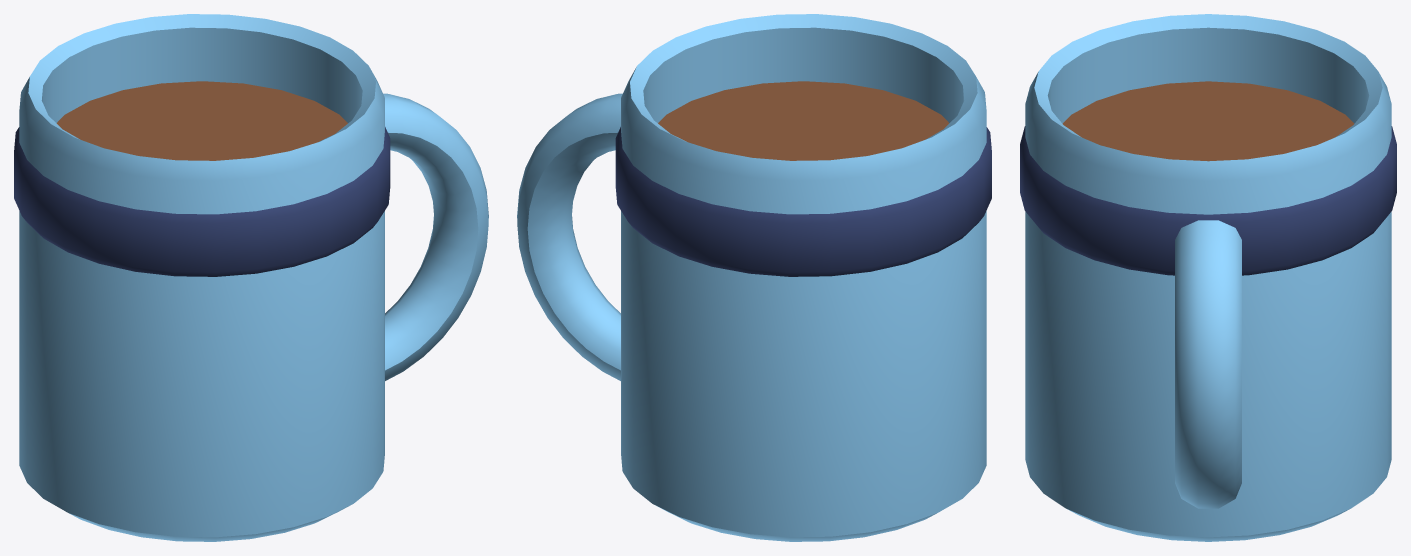
File: mug_b.glb
The picture shows the model from 3 angles, left to right: view 1: azimuth 30°, elevation 25°; view 2: azimuth 150°, elevation 25°; view 3: azimuth 270°, elevation 25°; orthographic projection.
Parts seen in each view (by area): view 1: ceramic, ceramic_band, coffee; view 2: ceramic, ceramic_band, coffee; view 3: ceramic, ceramic_band, coffee.
Boxes of the visible parts, bbox=[...] form: ceramic: bbox=[19, 14, 488, 541]; ceramic_band: bbox=[14, 127, 390, 276]; coffee: bbox=[56, 81, 347, 160]; ceramic: bbox=[517, 14, 986, 541]; ceramic_band: bbox=[615, 127, 991, 276]; coffee: bbox=[658, 81, 949, 160]; ceramic: bbox=[1025, 14, 1391, 541]; ceramic_band: bbox=[1020, 126, 1396, 275]; coffee: bbox=[1062, 81, 1354, 161].
Bounding box in the file's own units: 0.1149 × 0.095 × 0.0844.
